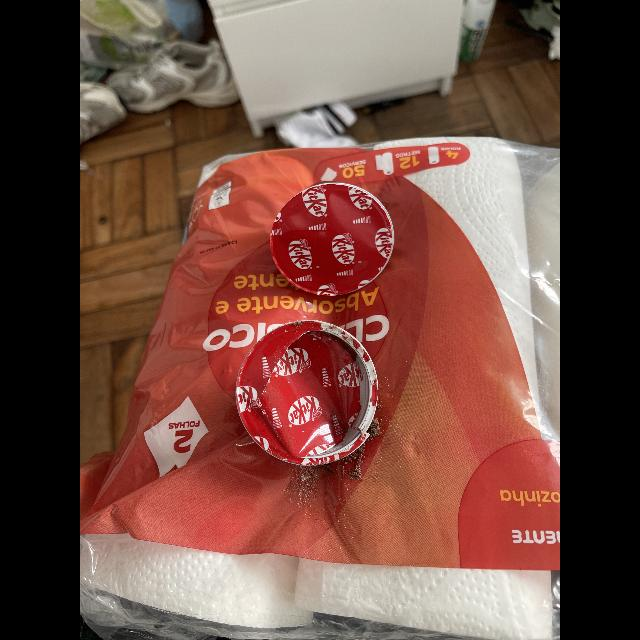damaged_capsule: (235, 313, 389, 471)
intact_capsule: (266, 174, 404, 300)
